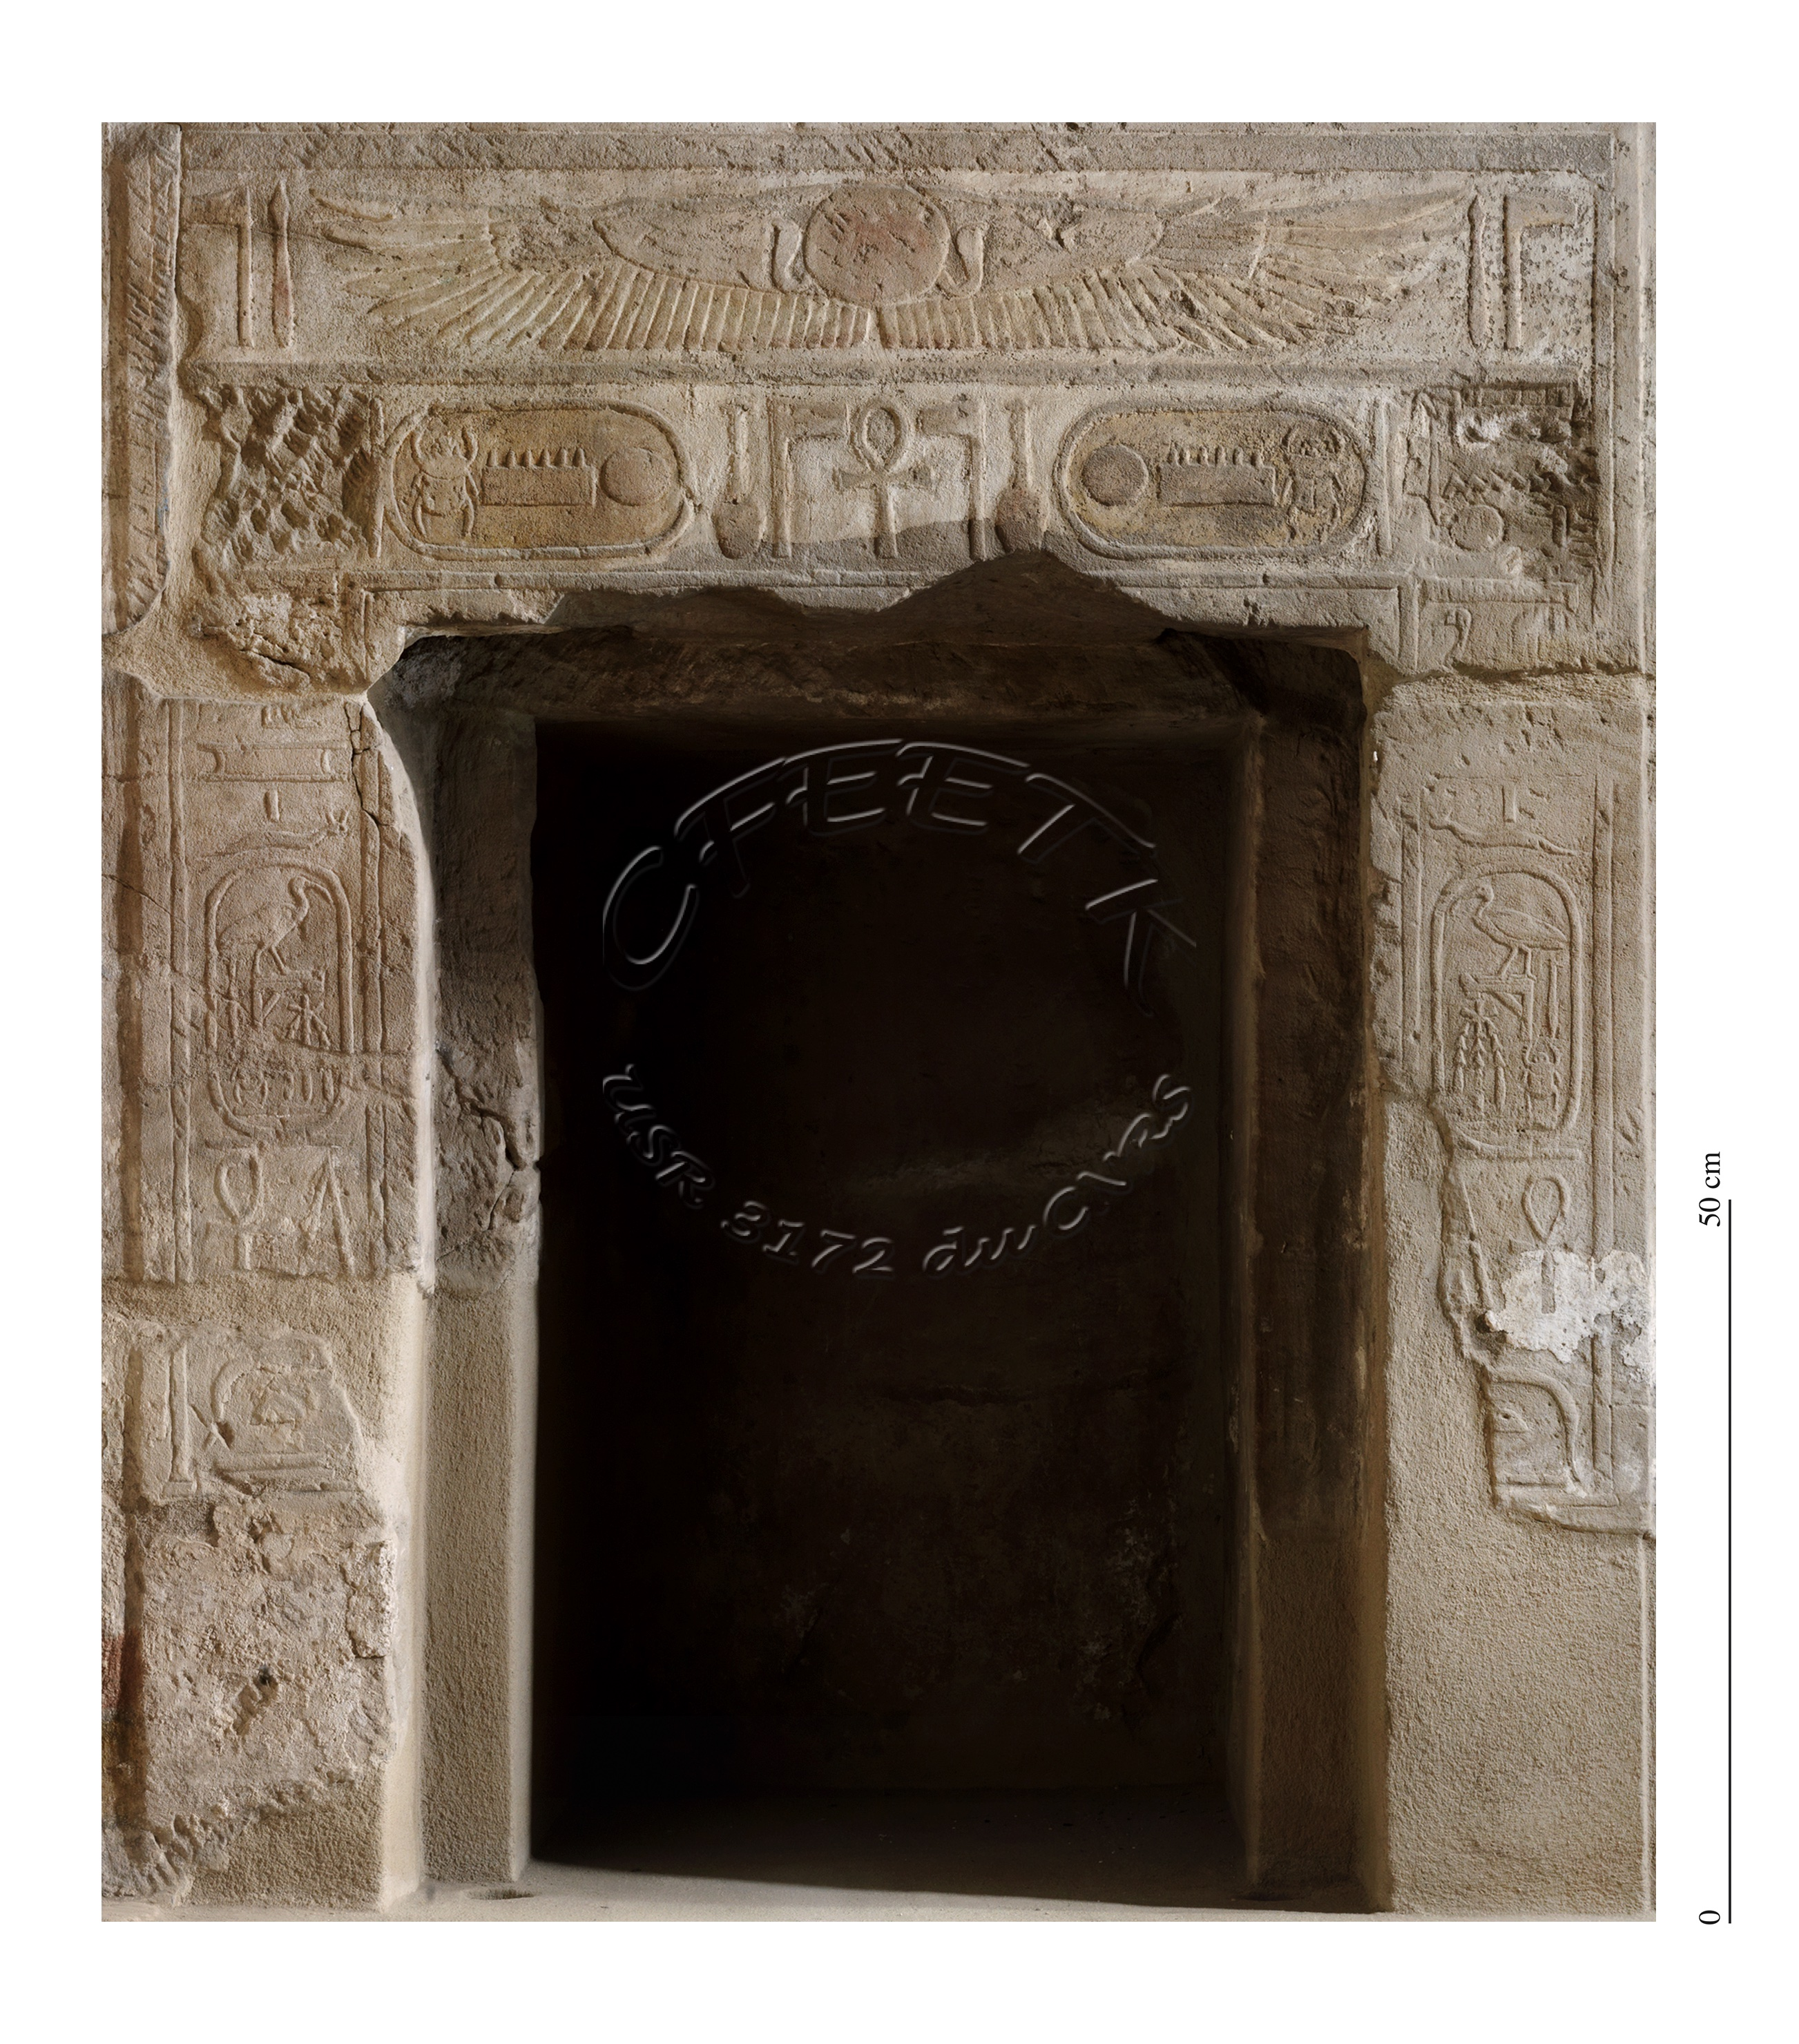F35: (984, 389, 1083, 570), (695, 389, 780, 567)
I10: (1476, 1357, 1599, 1502)
M17: (1399, 393, 1450, 546)
N35: (1439, 464, 1589, 513)
